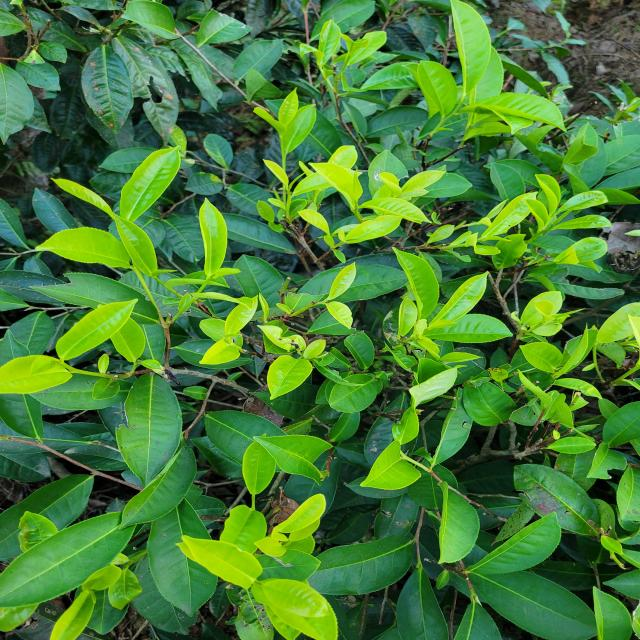Catagory A(1-2 days): (50, 296, 151, 362), (191, 190, 235, 282)
